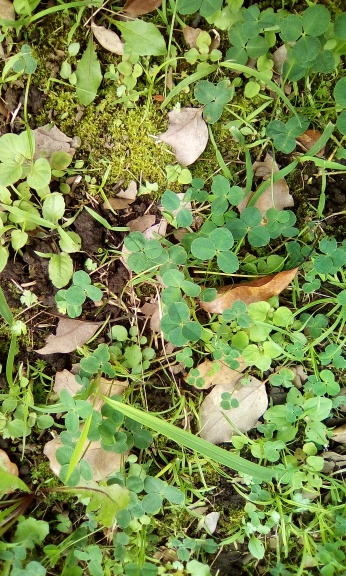4leaf: (159, 301, 203, 348)
